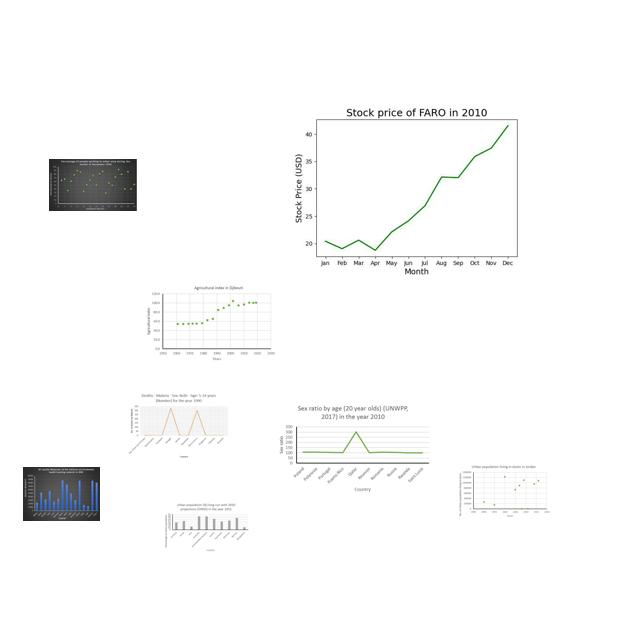Graph: (284, 90, 543, 284), (275, 402, 431, 495), (144, 283, 277, 361), (128, 392, 229, 459), (457, 464, 551, 518), (49, 159, 137, 211), (163, 502, 250, 554), (23, 467, 100, 521)
